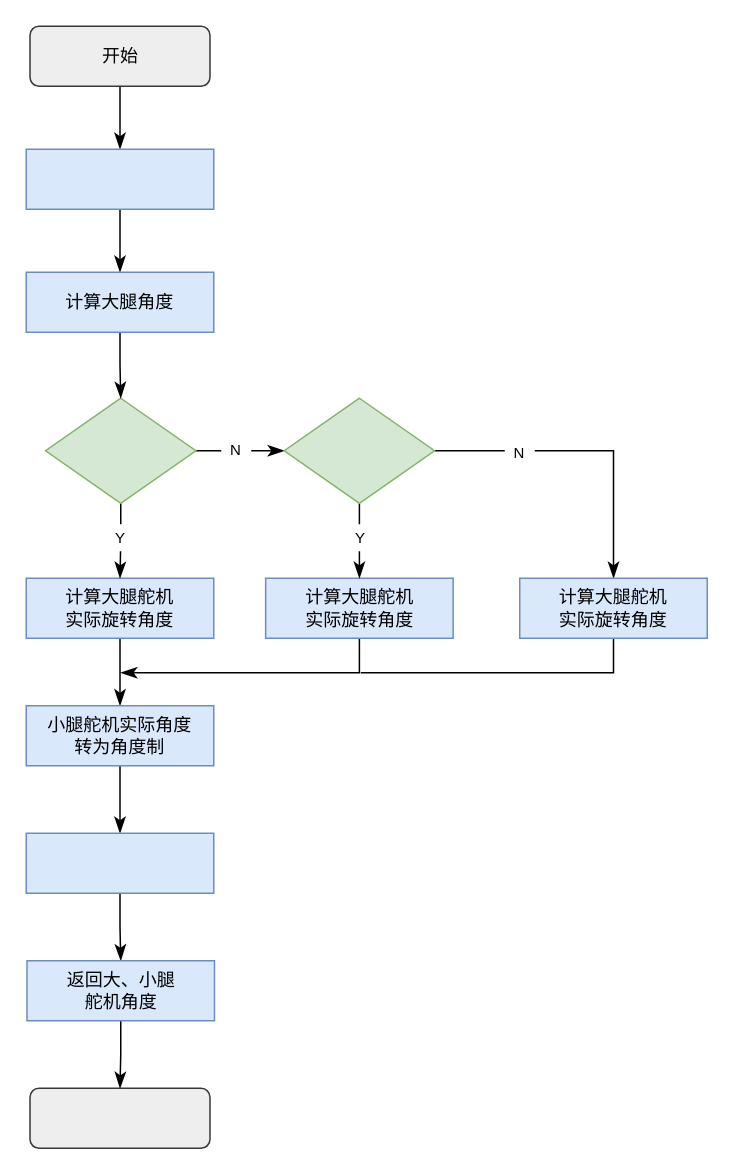
Image size: 734x1175. Some labels were removed from this diagram. The centre of each missing label's shape, as x and y in pixels:
大腿舵机实际角度 转为角度制: (x=119, y=862)
结束: (x=119, y=1117)
计算小腿角度: (x=119, y=178)
足端x坐标 大于0？: (x=120, y=450)
足端x坐标 小于0？: (x=359, y=450)
